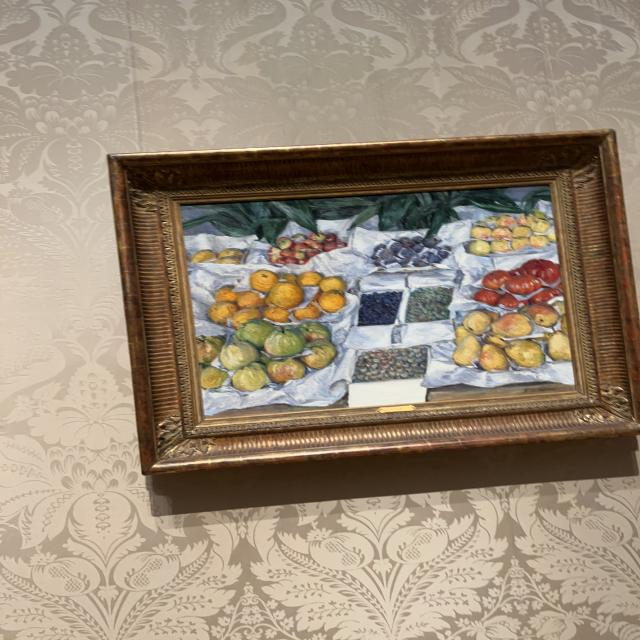fruits: (185, 188, 572, 416)
